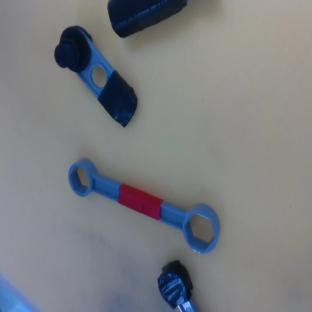part_1_bad: (44, 20, 150, 133)
part_2_bad: (107, 0, 187, 37)
part_3_bad: (153, 258, 199, 312)
part_3_good: (60, 146, 229, 258)
